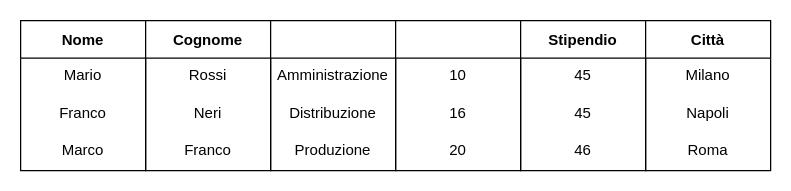
This 791x191 diagram has some shape labels left out. The shapes that lost their labels are listed below. From the top down, each one's box as (x1, y1, x2, y2) in pixels, then its label:
(269, 19, 396, 171): Dipart
(394, 19, 521, 171): Ufficio
